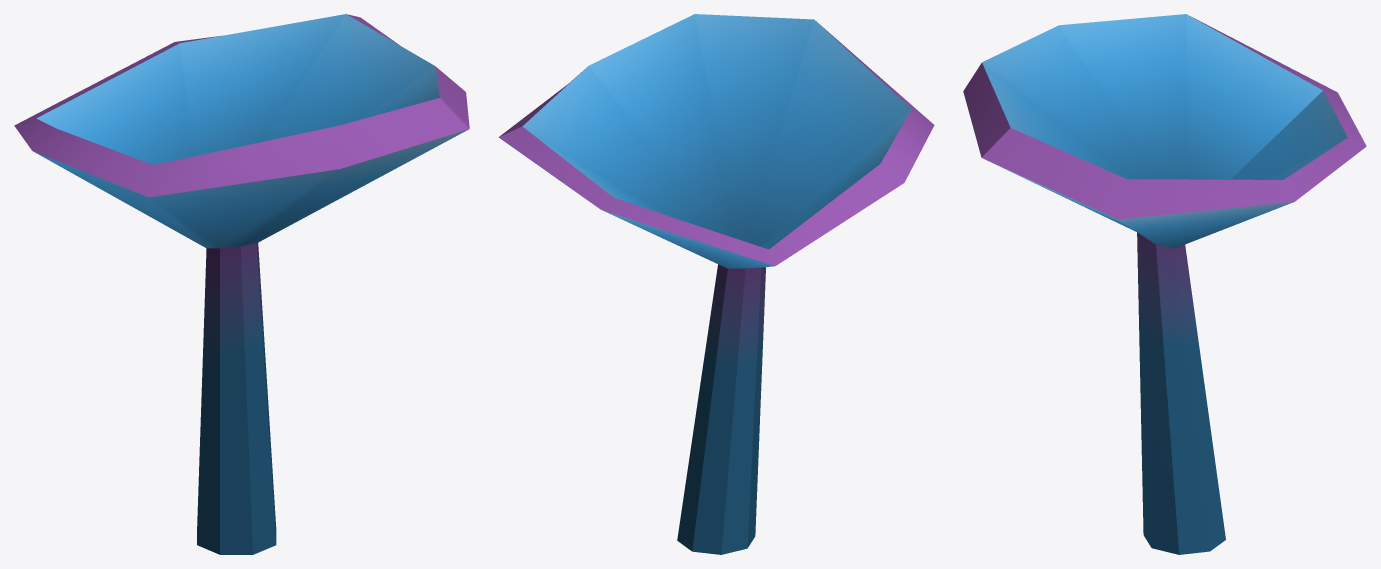
File: Mushroom_B_1.fbx
3 views of the same model, side by side, from view 1: azimuth 30°, elevation 25°; view 2: azimuth 150°, elevation 25°; view 3: azimuth 270°, elevation 25° (orthographic). The views are drawn at different scales.
Parts seen in each view (by area): view 1: Mushroom_B_1; view 2: Mushroom_B_1; view 3: Mushroom_B_1.
Part boxes in pixels (x1,y1,x2,y2): Mushroom_B_1: (14, 14, 469, 554); Mushroom_B_1: (498, 14, 934, 554); Mushroom_B_1: (963, 14, 1366, 554).
Bounding box in the file's own units: 18.23 × 21.34 × 16.46.
